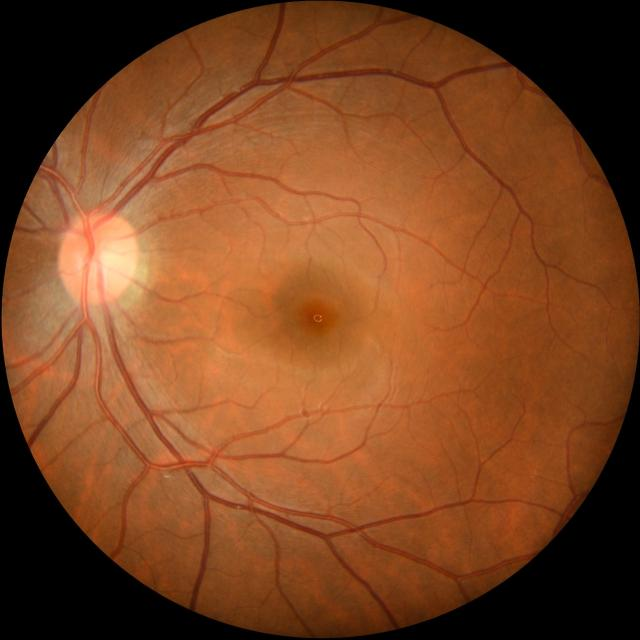OC: (84, 245, 120, 278)
OD: (59, 212, 139, 305)
